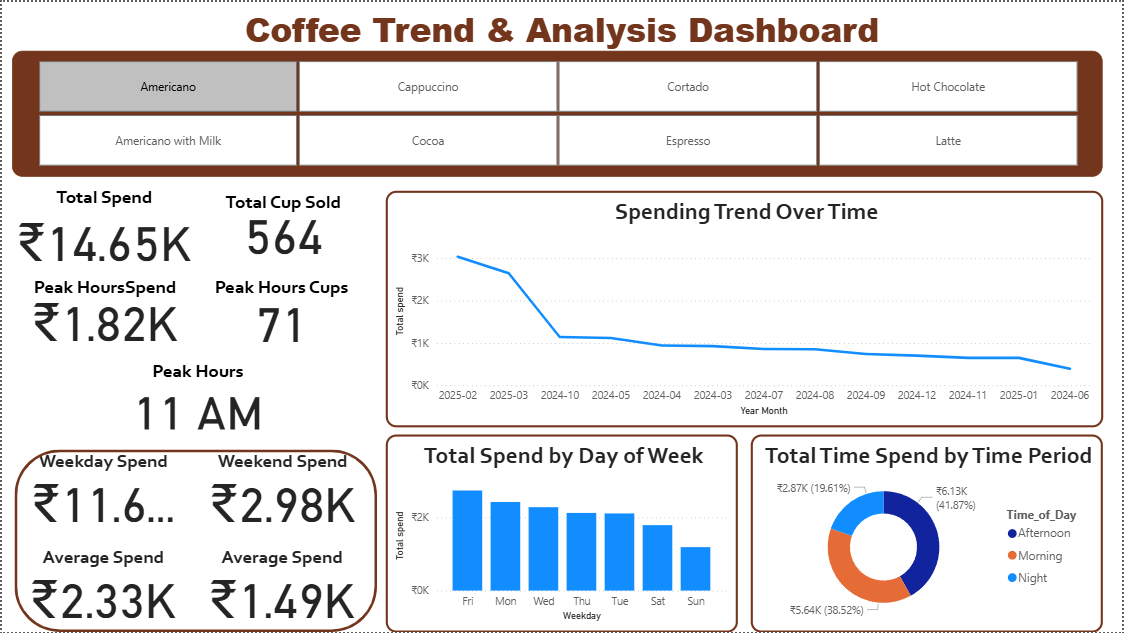

The page's visual inventory and layout, read from the dashboard file:
{"tool":"powerbi","page":{"name":"DASHBOARD 1","canvas":[1280,720],"ordinal":0},"visuals":[{"type":"lineChart","title":"Spending Trend Over Time","fields":{"Category":["DateTable.Year Month"],"Y":["Coffee_Sales_Cleaned(py).Total spend"]},"box":[438,216,820,270],"z":0},{"type":"clusteredColumnChart","title":"Total Spend by Day of Week","fields":{"Category":["DateTable.Weekday"],"Y":["Coffee_Sales_Cleaned(py).Total spend"]},"box":[438,494,402,226],"z":1000},{"type":"donutChart","title":"Total Time Spend by Time Period","fields":{"Category":["Coffee_Sales_Cleaned(py).Time_of_Day"],"Y":["Coffee_Sales_Cleaned(py).Total spend"]},"box":[856,494,402,226],"z":2000},{"type":"textbox","box":[0,0,1280,70],"z":3000},{"type":"slicer","fields":{"Values":["Coffee_Sales_Cleaned(py).coffee_name"]},"box":[11.2,56.2,1246.2,143.8],"z":4000},{"type":"card","title":"Total Spend","fields":{"Values":["Coffee_Sales_Cleaned(py).Total spend"]},"box":[10.9,210.7,210.7,94.4],"z":5000},{"type":"card","title":"Peak Hours Cups","fields":{"Values":["Coffee_Sales_Cleaned(py).Peak Hours Cups"]},"box":[237.1,312.9,164.3,95.7],"z":6000},{"type":"card","title":"Peak HoursSpend","fields":{"Values":["Coffee_Sales_Cleaned(py).Peak Hours Spend"]},"box":[10.9,312.4,212.5,94.4],"z":7000},{"type":"card","title":"Weekend Spend","fields":{"Values":["Coffee_Sales_Cleaned(py).Weekend Spend"]},"box":[228.6,511.4,184.3,88.6],"z":8000},{"type":"card","title":"Weekday Spend","fields":{"Values":["Coffee_Sales_Cleaned(py).Weekday Spend"]},"box":[24.3,511.4,182.9,88.6],"z":9000},{"type":"card","title":"Average Spend","fields":{"Values":["Coffee_Sales_Cleaned(py).Average Weekend Spend"]},"box":[228.6,621.4,182.9,88.6],"z":10000},{"type":"card","title":"Peak Hours","fields":{"Values":["Coffee_Sales_Cleaned(py).Peak Hours"]},"box":[105.3,408.6,236.1,85.4],"z":11000},{"type":"card","title":"Total Cup Sold","fields":{"Values":["Coffee_Sales_Cleaned(py).Total Cup Sold"]},"box":[228.6,215.7,185.7,88.6],"z":12000},{"type":"card","title":"Average Spend","fields":{"Values":["Coffee_Sales_Cleaned(py).Average Weekday Spend"]},"box":[24.3,621.4,182.9,88.6],"z":13000},{"type":"shape","box":[14.3,511.4,414.3,208.6],"z":14000}]}

Visuals, with their boxes in screenshot pixels (x1, y1, x2, y2), scaled from the page's 1280x720 canvas onto the 1124x633 screenshot:
"Spending Trend Over Time" lineChart: pyautogui.locateOnScreen(385, 190, 1105, 427)
"Total Spend by Day of Week" clusteredColumnChart: pyautogui.locateOnScreen(385, 434, 738, 632)
"Total Time Spend by Time Period" donutChart: pyautogui.locateOnScreen(752, 434, 1105, 632)
textbox: pyautogui.locateOnScreen(0, 0, 1123, 62)
slicer - Coffee_Sales_Cleaned(py).coffee_name: pyautogui.locateOnScreen(10, 49, 1104, 176)
"Total Spend" card: pyautogui.locateOnScreen(10, 185, 195, 268)
"Peak Hours Cups" card: pyautogui.locateOnScreen(208, 275, 352, 359)
"Peak HoursSpend" card: pyautogui.locateOnScreen(10, 275, 196, 358)
"Weekend Spend" card: pyautogui.locateOnScreen(201, 450, 363, 528)
"Weekday Spend" card: pyautogui.locateOnScreen(21, 450, 182, 528)
"Average Spend" card: pyautogui.locateOnScreen(201, 546, 361, 624)
"Peak Hours" card: pyautogui.locateOnScreen(92, 359, 300, 434)
"Total Cup Sold" card: pyautogui.locateOnScreen(201, 190, 364, 268)
"Average Spend" card: pyautogui.locateOnScreen(21, 546, 182, 624)
shape: pyautogui.locateOnScreen(13, 450, 376, 632)
